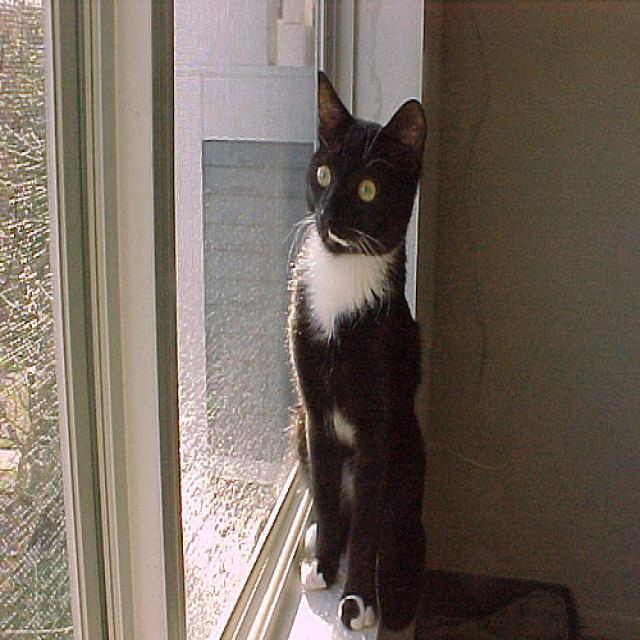cat: (285, 68, 431, 633)
